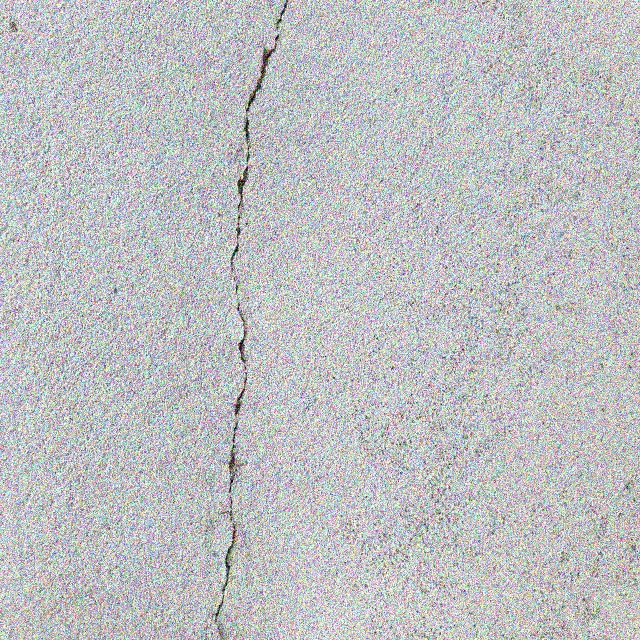SurfaceCrack: (165, 1, 320, 639)
